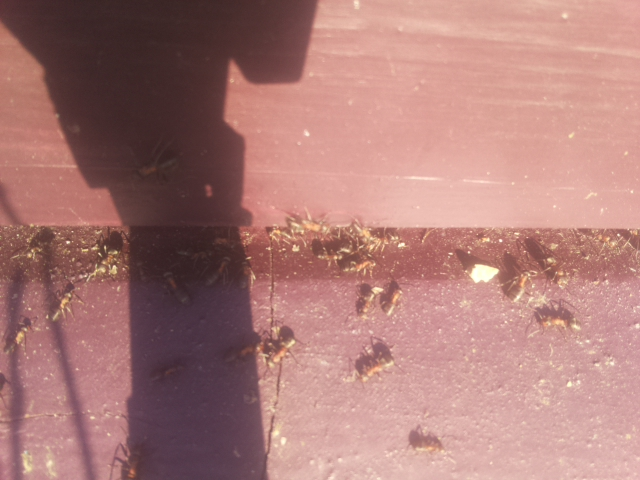ant: (348, 341, 403, 388), (128, 146, 186, 188), (529, 305, 584, 334), (403, 422, 448, 457), (266, 326, 300, 372), (112, 441, 149, 480), (160, 266, 192, 306), (48, 281, 77, 324), (506, 264, 535, 307), (204, 252, 232, 291), (353, 278, 375, 323), (378, 282, 405, 318)
